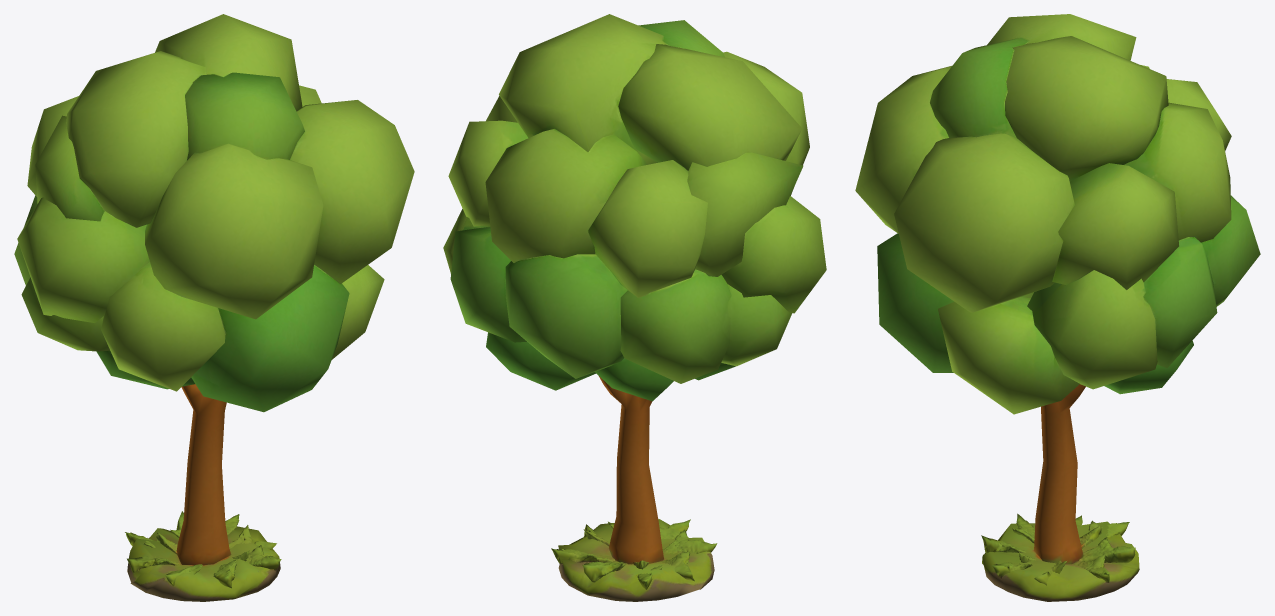
3 renders of one model, left to right at view 1: azimuth 30°, elevation 25°; view 2: azimuth 150°, elevation 25°; view 3: azimuth 270°, elevation 25°, orthographic.
Parts seen in each view (by area): view 1: tripo_node_64281c72-0987-4d3c-a18c-25c5cd3c8ca1; view 2: tripo_node_64281c72-0987-4d3c-a18c-25c5cd3c8ca1; view 3: tripo_node_64281c72-0987-4d3c-a18c-25c5cd3c8ca1.
Part boxes in pixels (left/top/right/bottom): tripo_node_64281c72-0987-4d3c-a18c-25c5cd3c8ca1: left=14, top=14, right=414, bottom=601; tripo_node_64281c72-0987-4d3c-a18c-25c5cd3c8ca1: left=443, top=14, right=826, bottom=601; tripo_node_64281c72-0987-4d3c-a18c-25c5cd3c8ca1: left=855, top=14, right=1260, bottom=601.
Size of the model in its own units: 0.3352 by 0.5 by 0.3411.
Materials: 1 (1 with a texture image).
